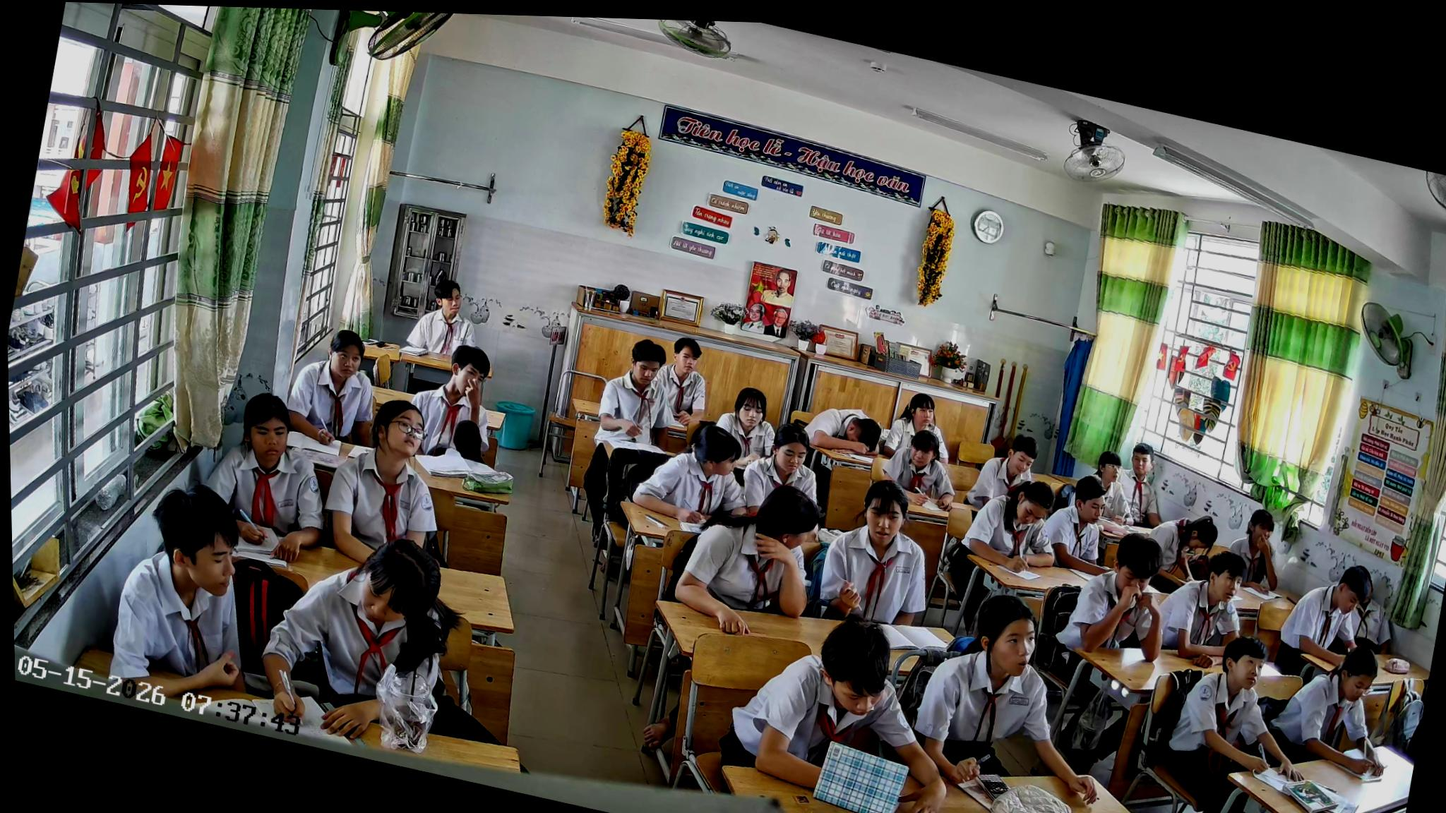person: (246, 509, 540, 773), (633, 461, 833, 781), (708, 590, 978, 813), (902, 578, 1134, 813), (98, 469, 289, 719), (1029, 519, 1186, 775), (1133, 620, 1330, 813), (182, 380, 347, 569), (312, 388, 461, 579), (575, 329, 702, 537), (941, 465, 1073, 654), (1257, 624, 1409, 785), (808, 469, 950, 640), (1269, 551, 1406, 697), (626, 409, 767, 538), (278, 319, 392, 456), (398, 334, 509, 472), (1149, 538, 1258, 675), (733, 415, 832, 532), (1035, 466, 1124, 578), (1128, 501, 1224, 604), (867, 420, 968, 515), (702, 381, 785, 495), (962, 425, 1043, 525), (403, 271, 489, 364), (647, 331, 721, 436), (874, 385, 959, 471), (1068, 445, 1148, 536), (1222, 502, 1291, 594), (1109, 438, 1176, 531), (800, 397, 885, 463)
